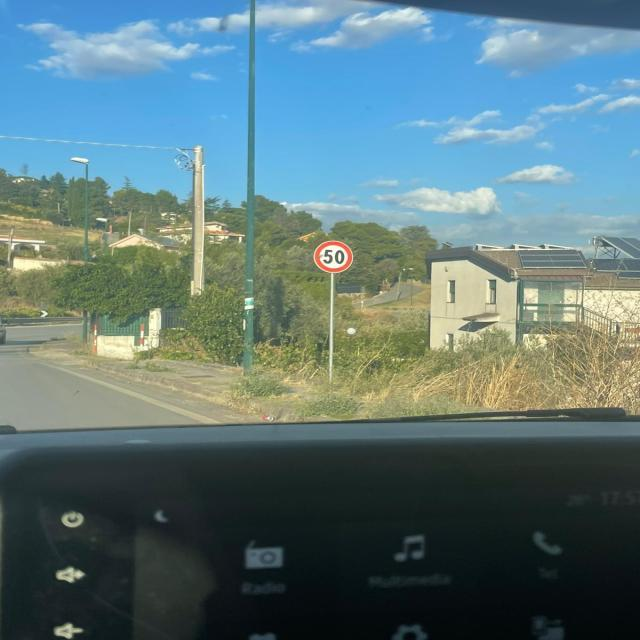forb_speed_over_50: (313, 240, 354, 274)
